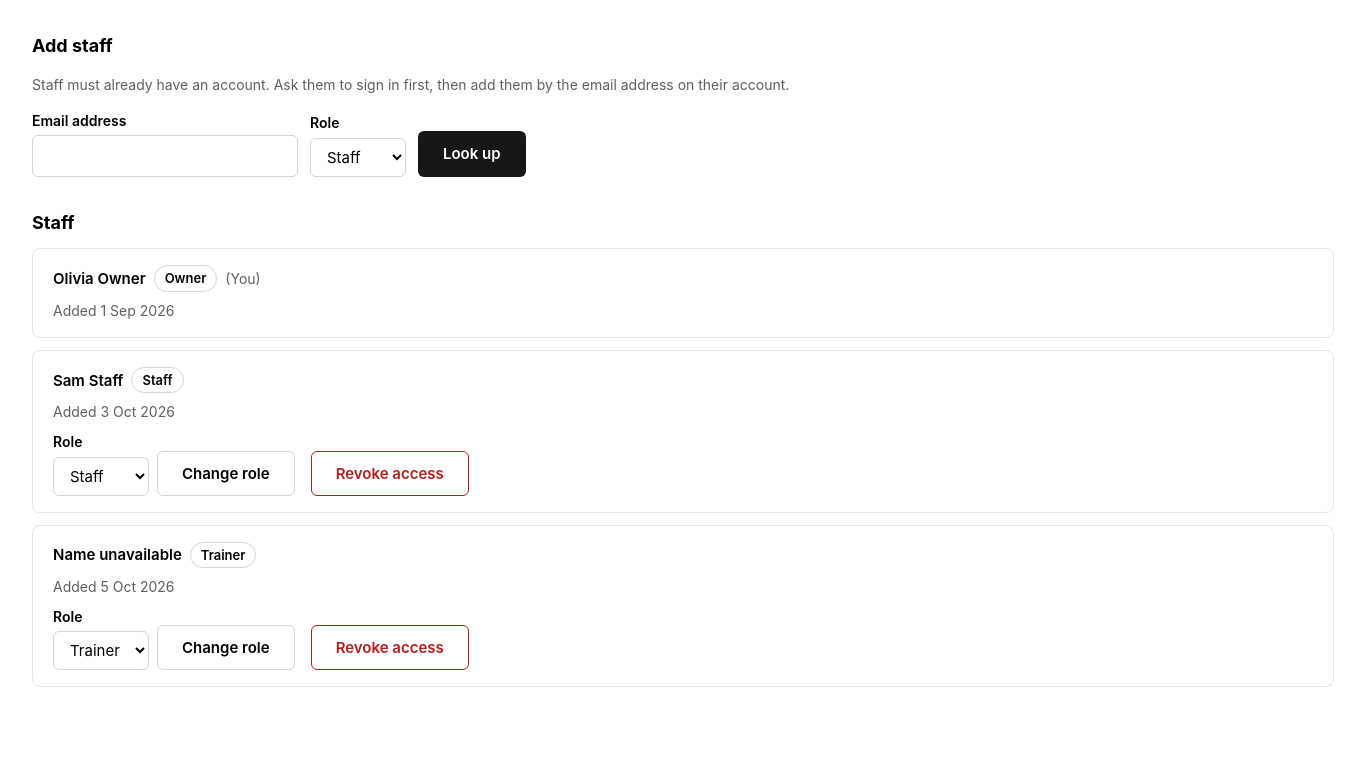
StaffManager as OWNER › requires an explicit confirmation before revoking
Click the button "Revoke access" below "Sam Staff".
click(390, 473)  # box [311, 450, 469, 496]
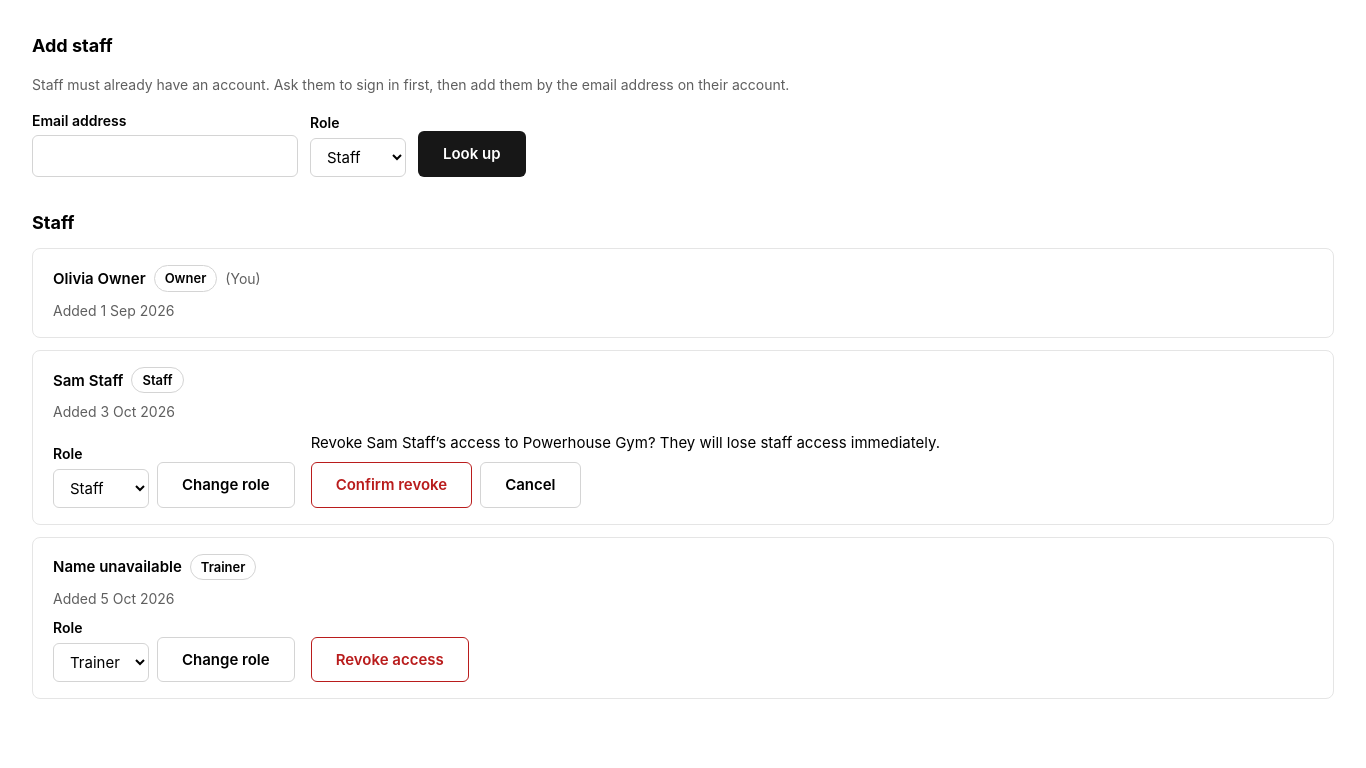
Now the text "lose staff access immediately" is shown, box [648, 433, 940, 452]
Click the button "Cancel".
click(530, 485)  # box [480, 462, 581, 508]
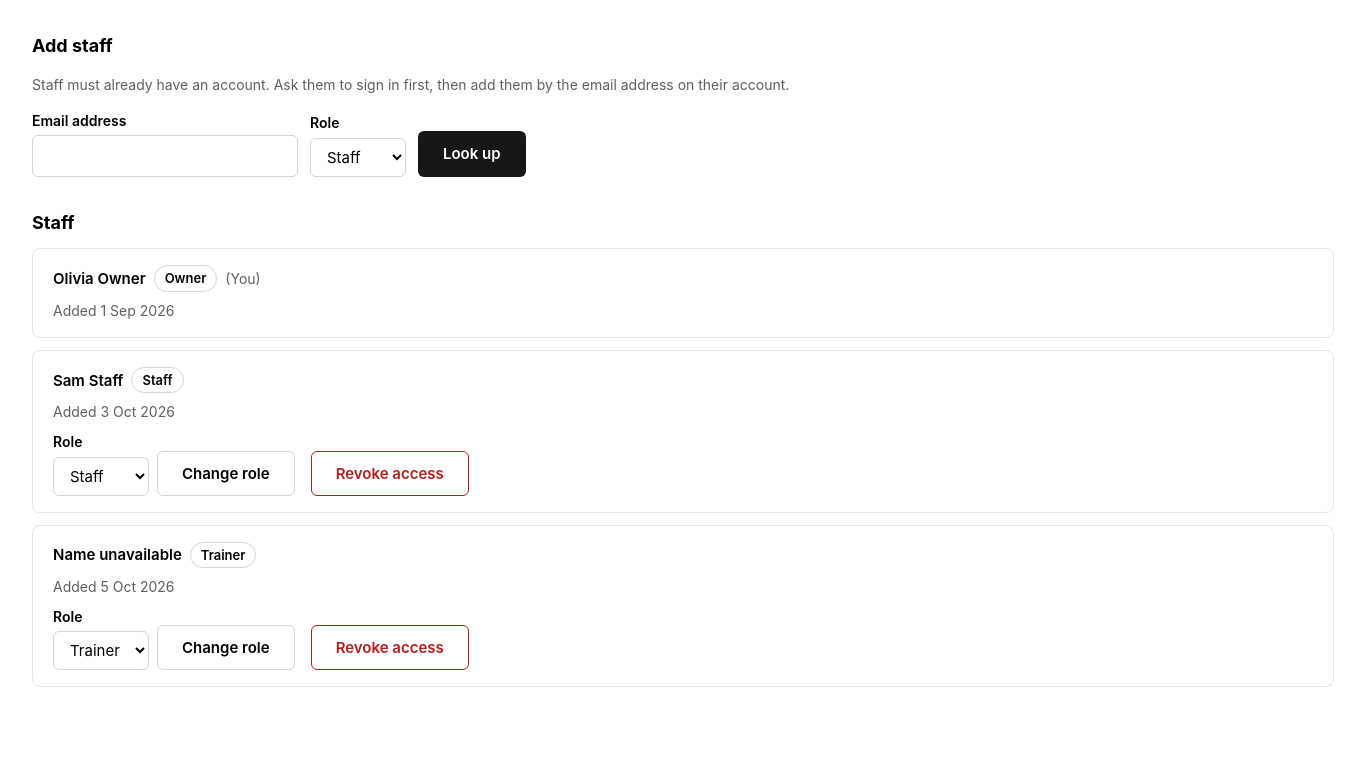
Now the text "lose staff access immediately" is gone
Click the button "Revoke access" below "Sam Staff".
click(390, 473)  # box [311, 450, 469, 496]
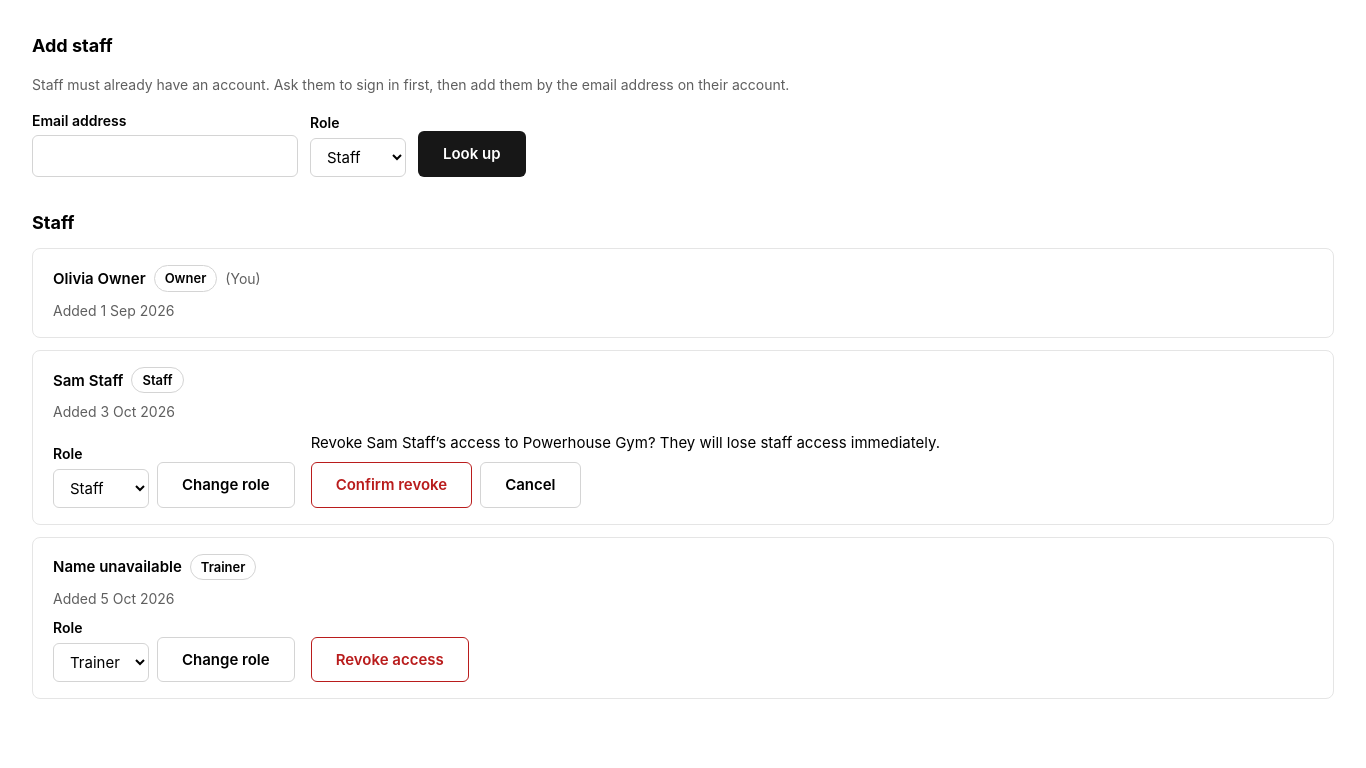
Click the button "Confirm revoke".
click(391, 485)  # box [311, 462, 472, 508]
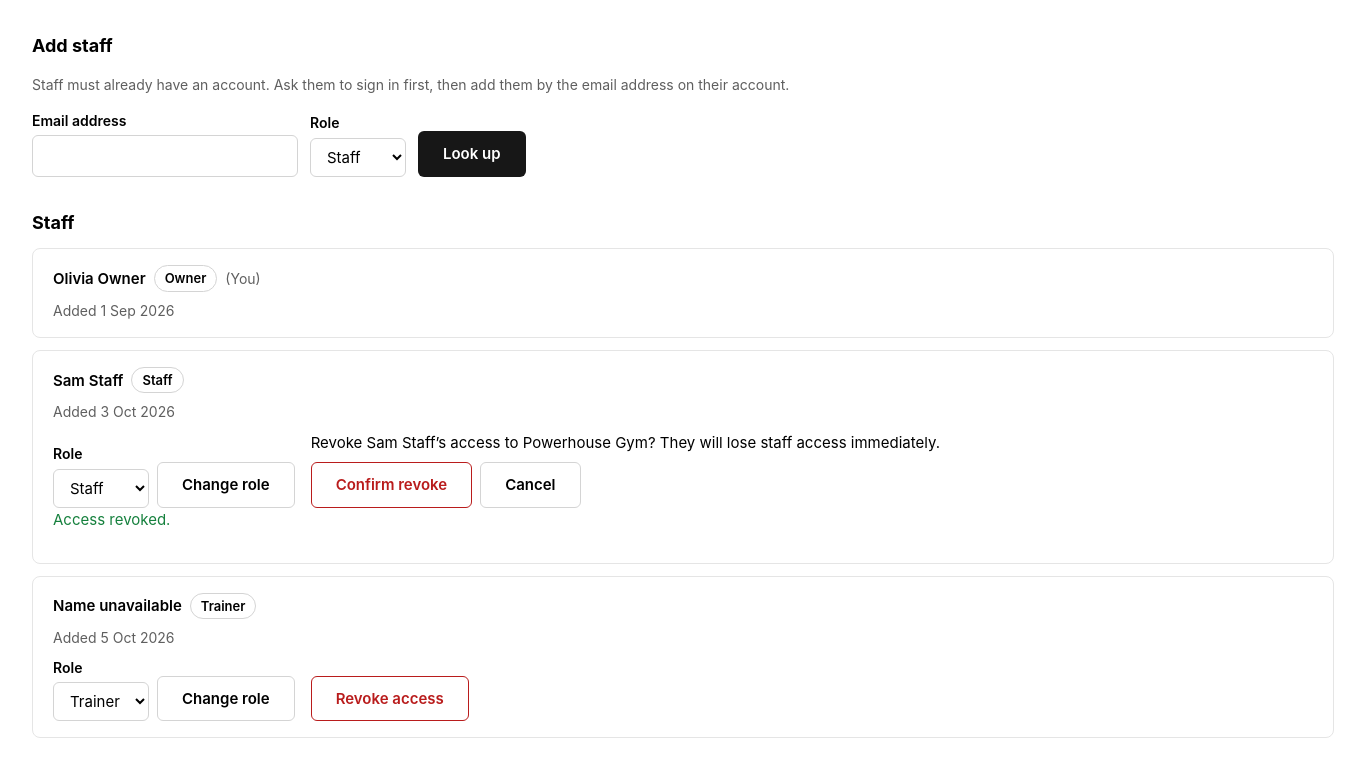
Now the text "Access revoked." is shown, box [53, 510, 170, 529]
